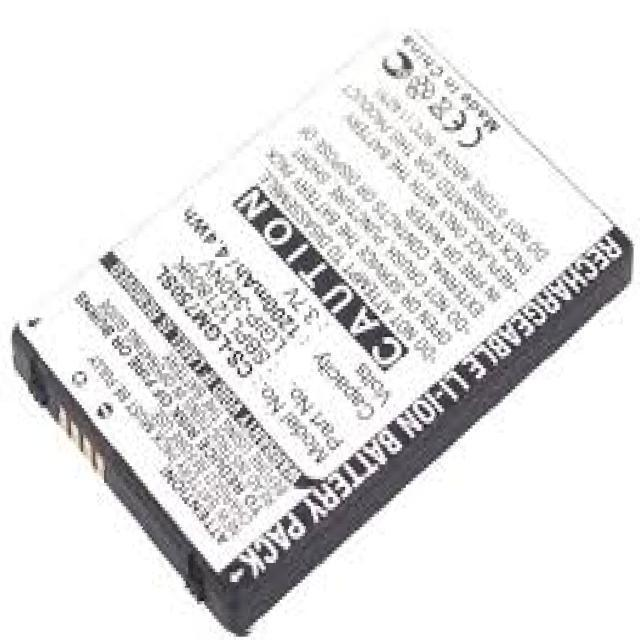Battery: (11, 22, 640, 635)
